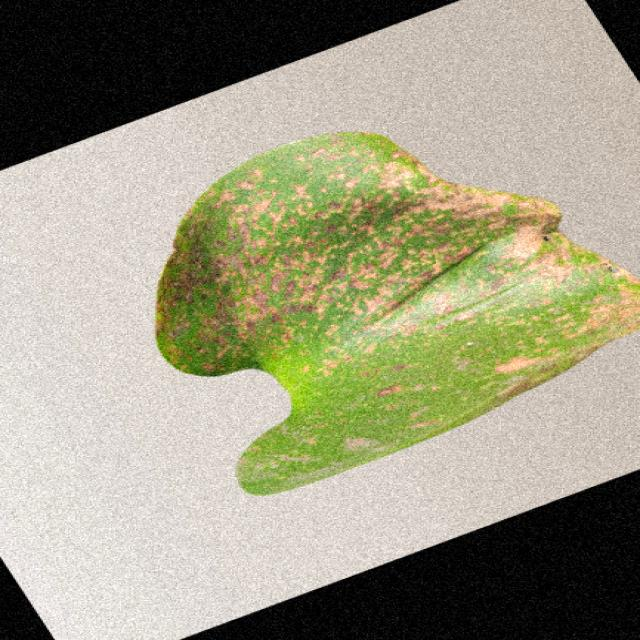daun berpenyakit bercak: (157, 133, 638, 495)
